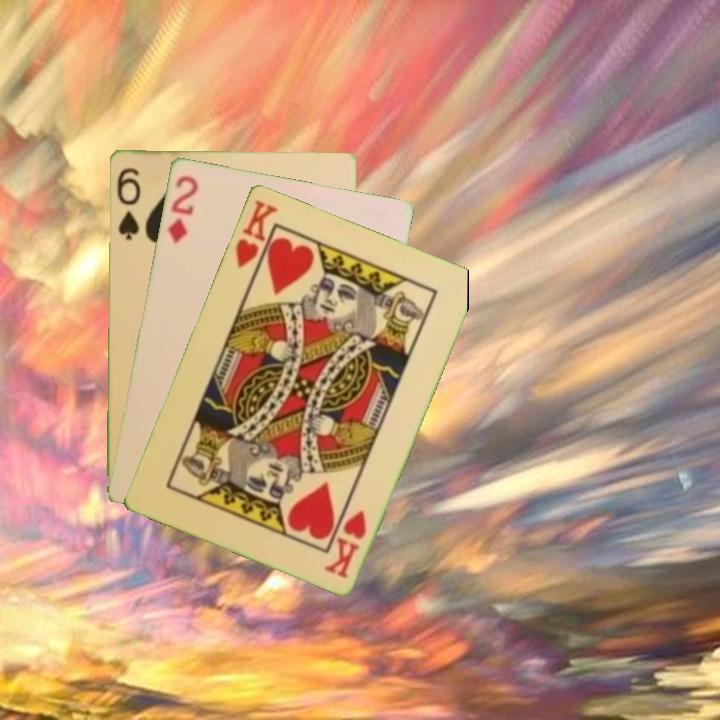2d: (163, 171, 201, 246)
6s: (113, 164, 143, 242)
Kh: (231, 196, 281, 281), (321, 506, 369, 581)
